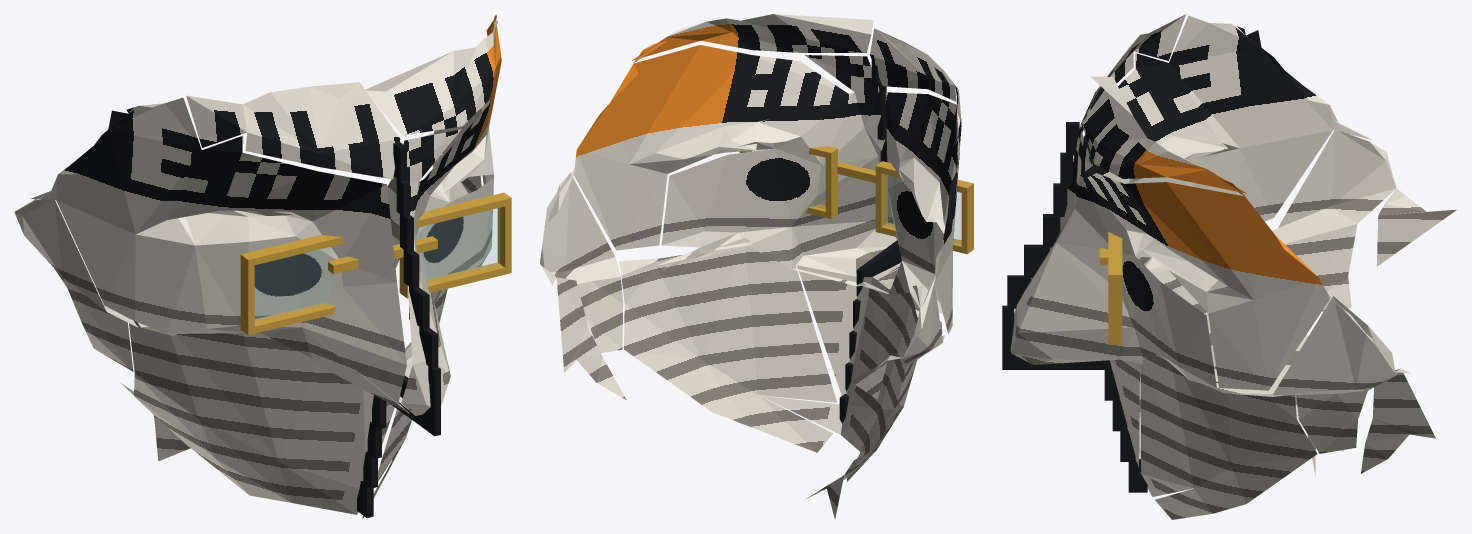
File: masks.glb
3 views of the same model, side by side, from view 1: azimuth 30°, elevation 25°; view 2: azimuth 150°, elevation 25°; view 3: azimuth 270°, elevation 25° (orthographic). The views are drawn at different scales.
Visible parts, largest first — view 1: mask_headline, mask_suit; view 2: mask_headline, mask_suit; view 3: mask_headline, mask_suit.
Part boxes in pixels (x1,y1,x2,y2): mask_headline: (14, 14, 501, 518); mask_suit: (240, 192, 511, 334); mask_headline: (540, 14, 961, 519); mask_suit: (739, 146, 973, 254); mask_headline: (1002, 14, 1456, 519); mask_suit: (1099, 232, 1122, 344).
Size of the model in its own units: 0.267 by 0.2746 by 0.2589.
Materials: 8 (5 with a texture image).
